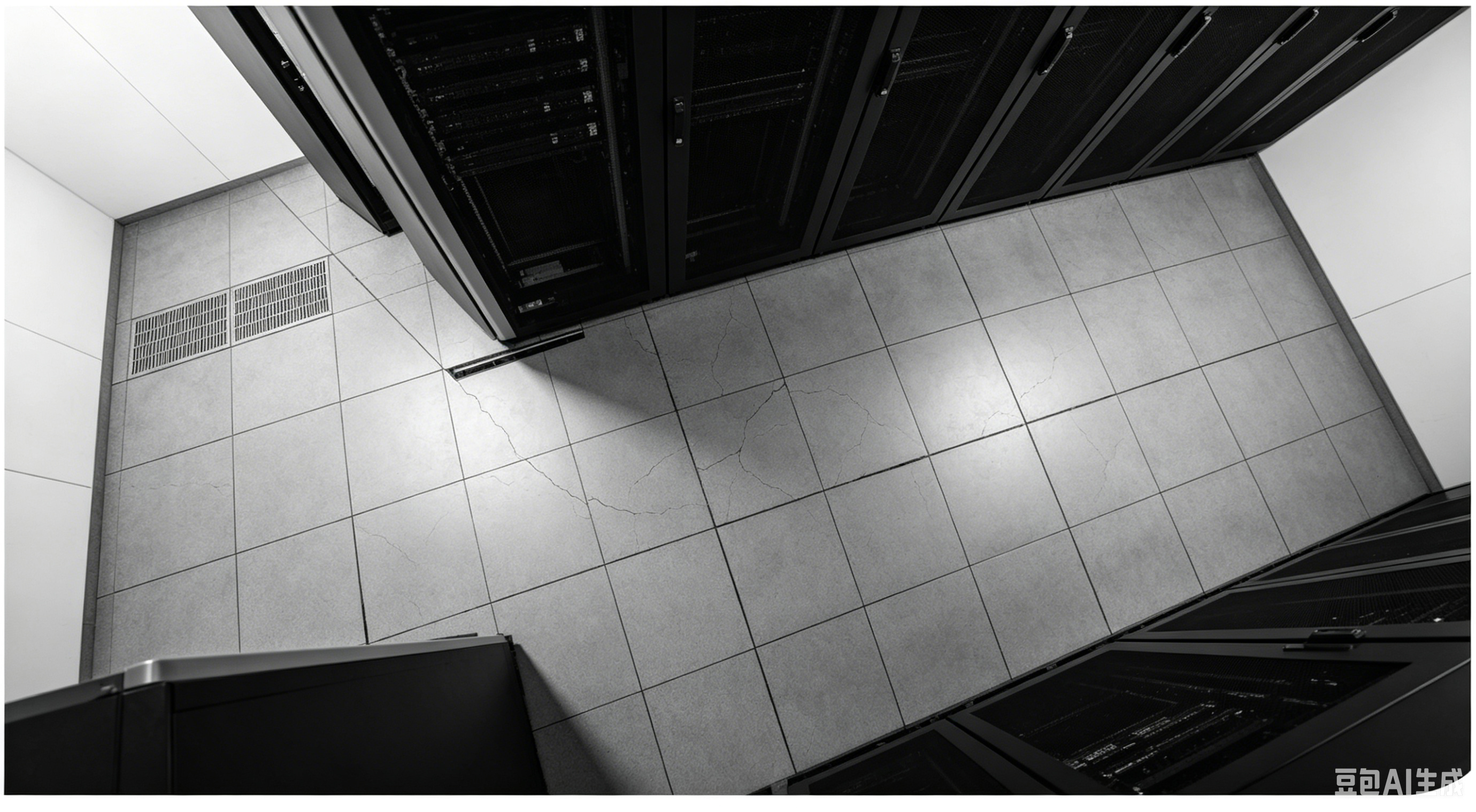floor_defect: (453, 380, 522, 462), (733, 449, 804, 505), (530, 457, 595, 512), (617, 310, 671, 368), (664, 430, 734, 474), (593, 491, 668, 524), (720, 291, 743, 391), (765, 380, 862, 400), (734, 400, 774, 446), (634, 455, 681, 494)
